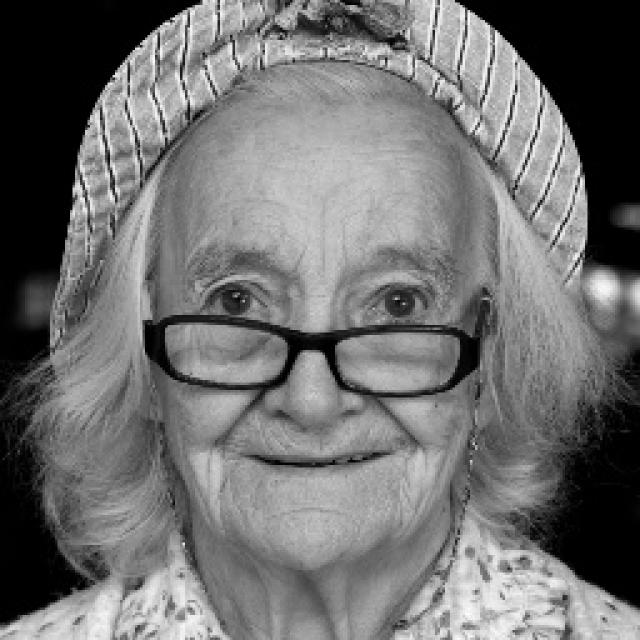glasses: (135, 275, 499, 409)
